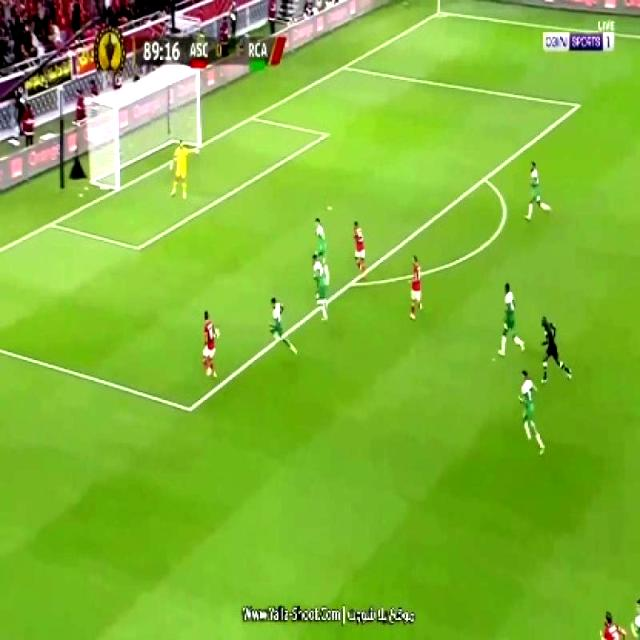bigarea_bottom_inner: (182, 395, 196, 420)
bigarea_top_inner: (572, 98, 582, 112)
bigarea_top_outter: (338, 59, 349, 72)
bottom_arc_area_intersection: (346, 276, 356, 290)
corner: (432, 8, 446, 17)
smallarea_bottom_inner: (130, 237, 145, 258)
smallarea_bottom_outter: (46, 214, 57, 232)
smallarea_top_inner: (320, 128, 330, 142)
smallarea_top_outter: (246, 110, 257, 125)
top_arc_area_intersection: (480, 171, 490, 186)
